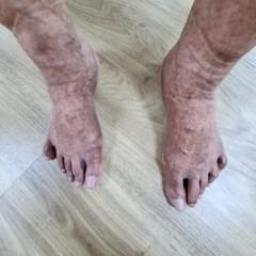Dorsal View -Both Feet-: (10, 19, 250, 218)
